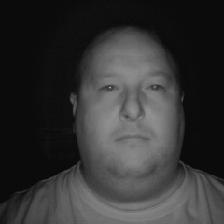normal: (60, 22, 199, 194)
